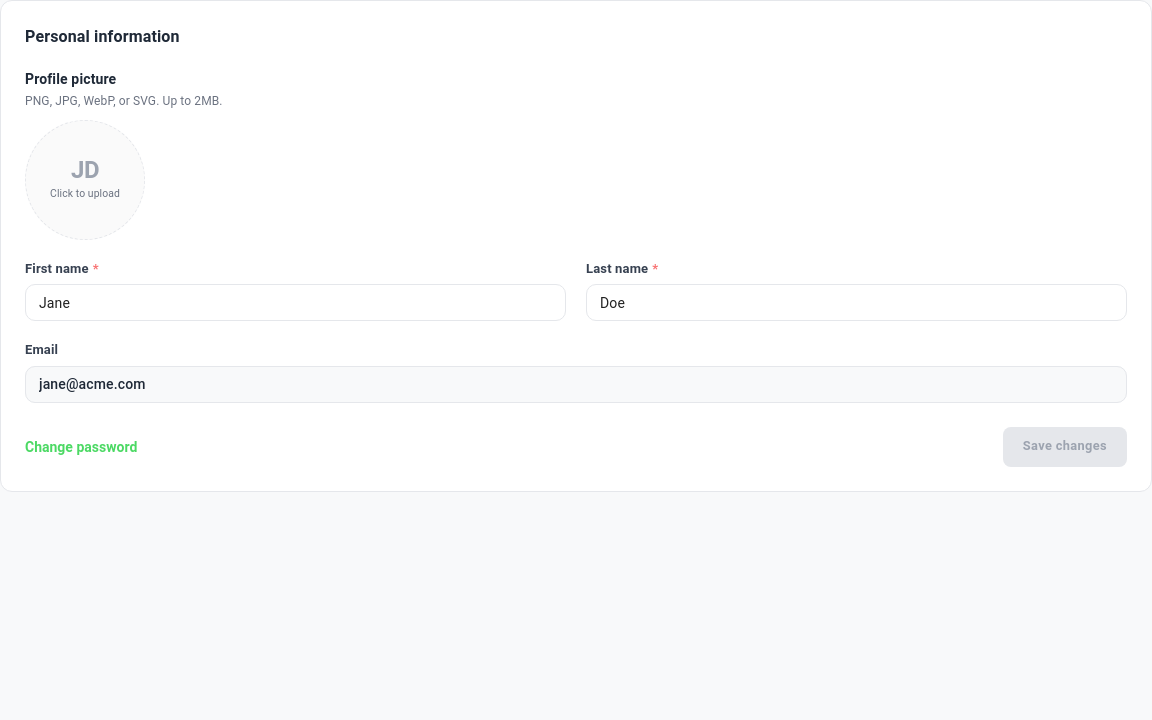
Test case: PersonalTab › surfaces an error when the save fails
In the field labelled "First name *": (296, 303) x1=25 y1=284 x2=566 y2=321, type "Janet"
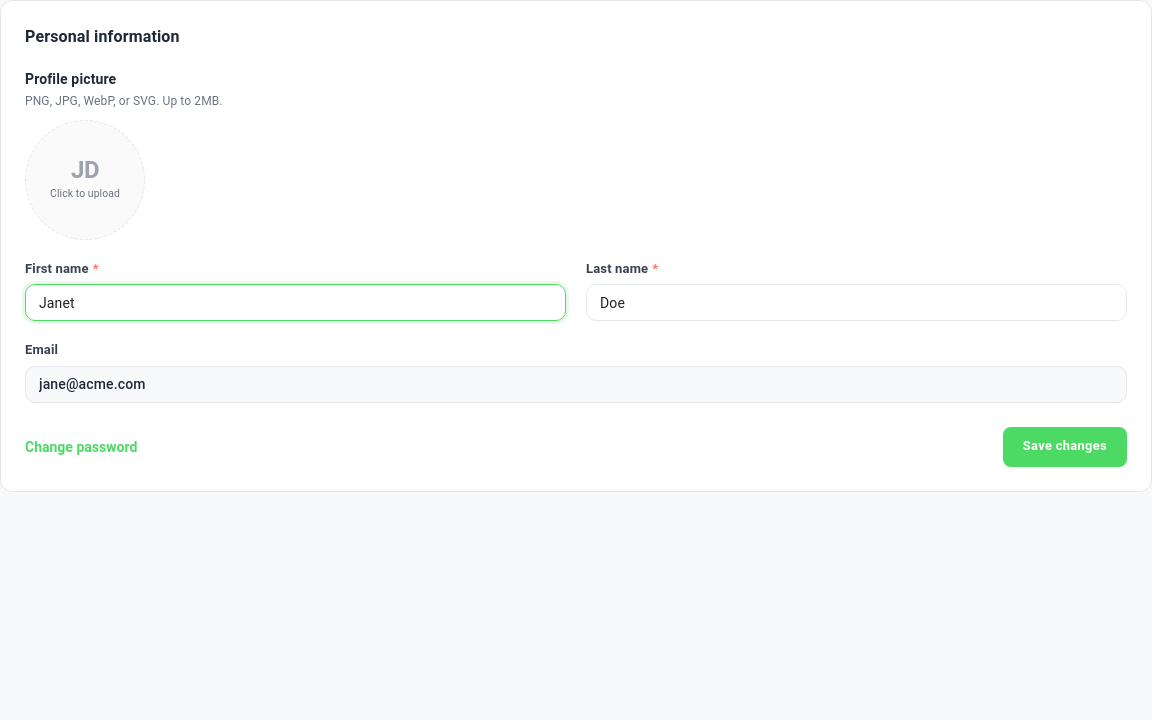
Click the button "Save changes": (1065, 447) x1=1003 y1=427 x2=1127 y2=467
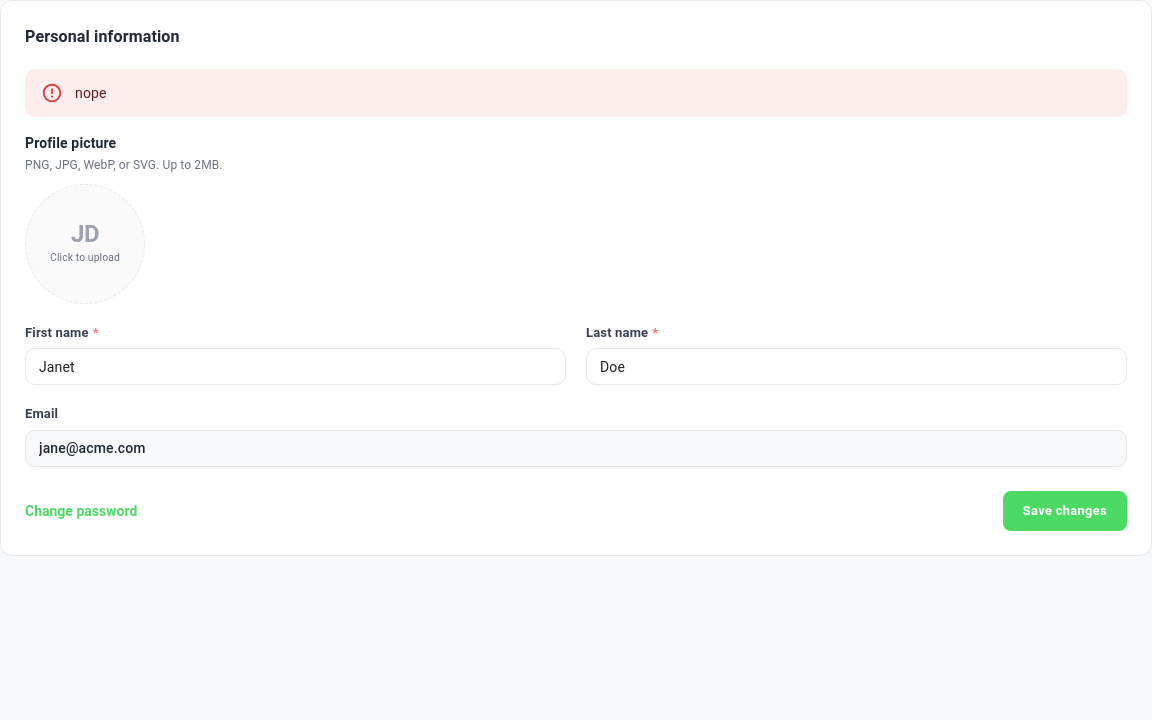
Expected: the text "nope" is shown, x1=75 y1=85 x2=107 y2=101
